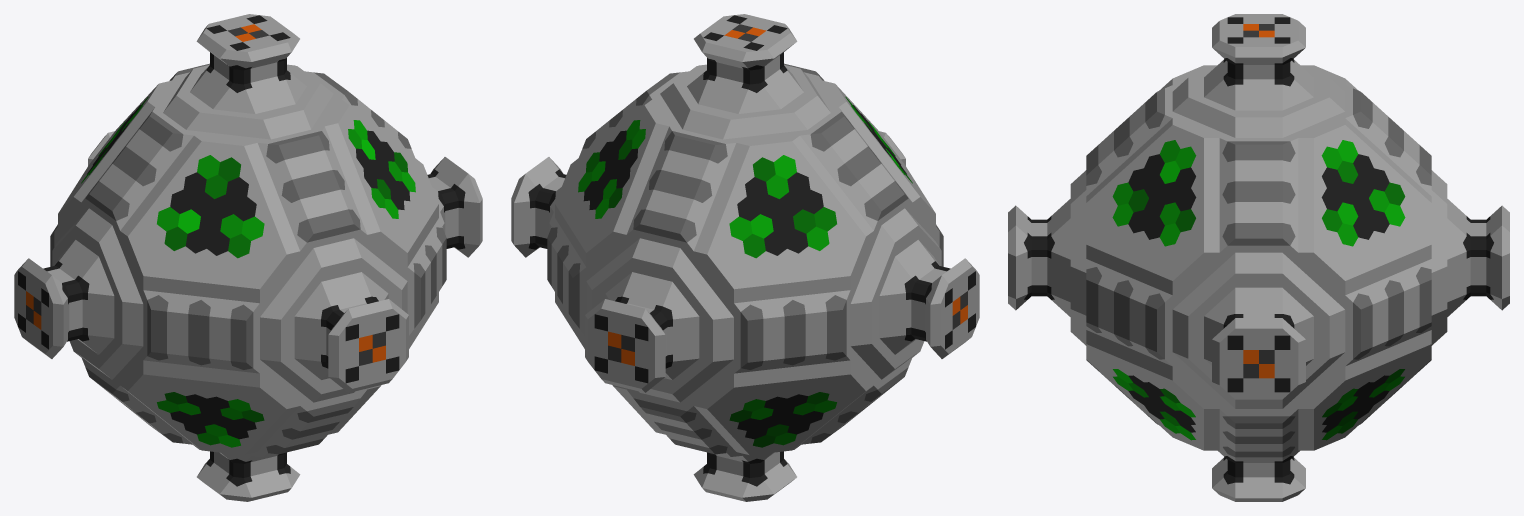
File: reactor_medium.fbx
The picture shows the model from 3 angles, left to right: view 1: azimuth 30°, elevation 25°; view 2: azimuth 150°, elevation 25°; view 3: azimuth 270°, elevation 25°; orthographic projection.
Visible parts, largest first — view 1: reactor_medium; view 2: reactor_medium; view 3: reactor_medium.
Part boxes in pixels (box(x1,y1,x2,y2)): reactor_medium: box(14, 14, 482, 501); reactor_medium: box(511, 14, 979, 501); reactor_medium: box(1008, 14, 1509, 501).
Size of the model in its own units: 3200 by 3200 by 3200.
